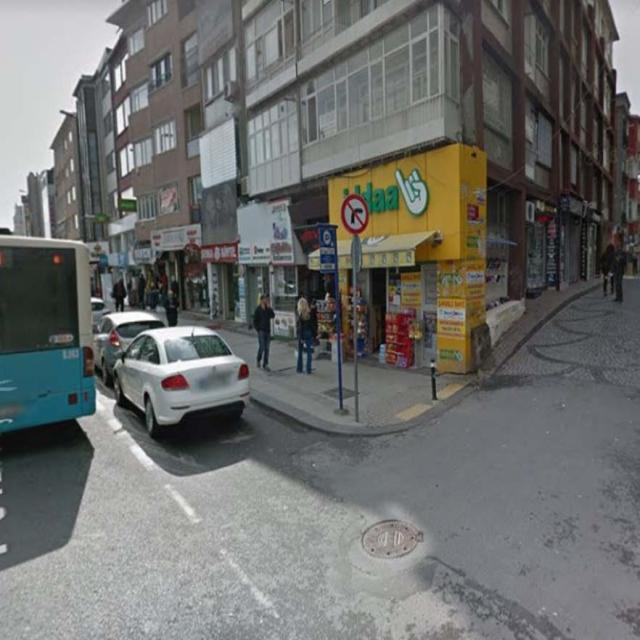sagadonulmez: (341, 194, 368, 233)
